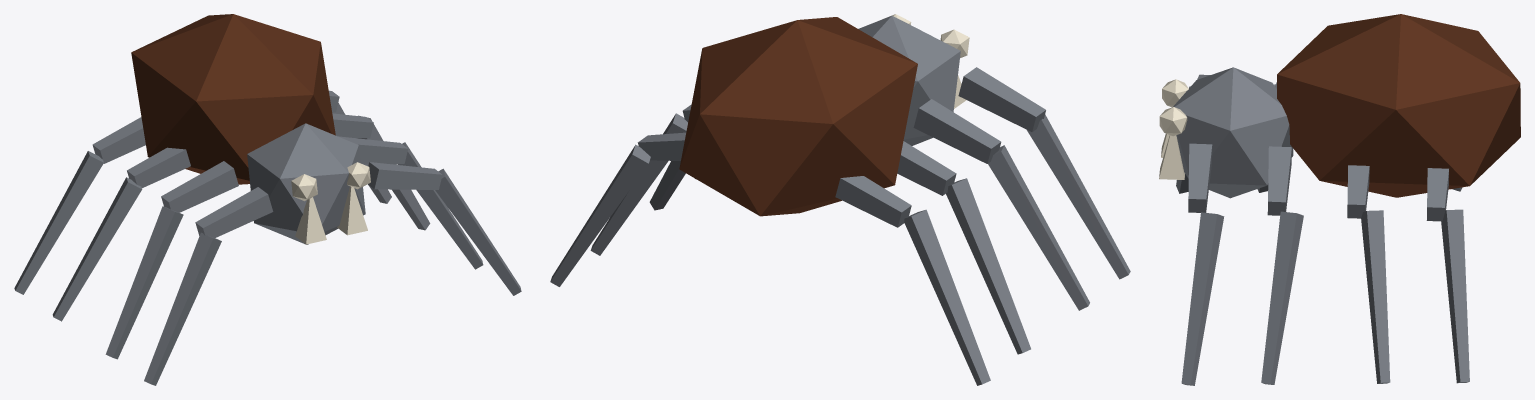
File: npcpose_spider_idle_08.glb
The picture shows the model from 3 angles, left to right: view 1: azimuth 30°, elevation 25°; view 2: azimuth 150°, elevation 25°; view 3: azimuth 270°, elevation 25°; orthographic projection. The views are drawn at different scales.
Parts seen in each view (by area): view 1: npcpose; view 2: npcpose; view 3: npcpose.
Boxes of the visible parts, <box> form: npcpose: <box>14,14,521,385</box>; npcpose: <box>550,14,1130,385</box>; npcpose: <box>1159,14,1520,385</box>.
Bounding box in the file's own units: 1.33 × 0.8396 × 1.
